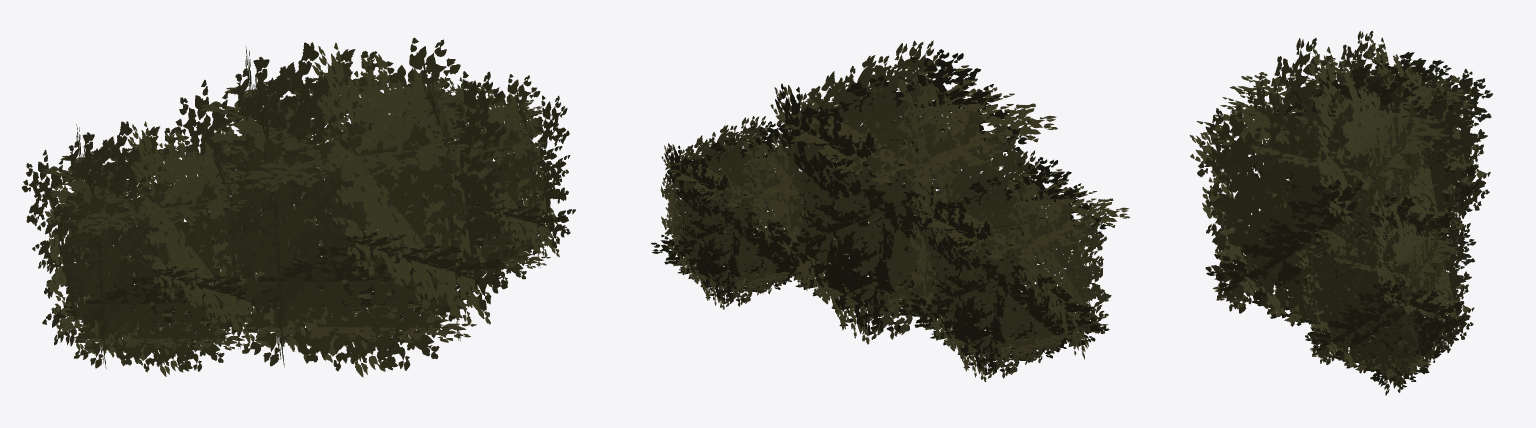
The model's file is Bush.fbx.
3 renders of one model, left to right at view 1: azimuth 30°, elevation 25°; view 2: azimuth 150°, elevation 25°; view 3: azimuth 270°, elevation 25°, orthographic. The views are drawn at different scales.
Parts seen in each view (by area): view 1: Bush_b; view 2: Bush_b; view 3: Bush_b.
Part boxes in pixels (x1=…): Bush_b: x1=21, y1=37, x2=575, y2=377; Bush_b: x1=651, y1=40, x2=1129, y2=381; Bush_b: x1=1190, y1=30, x2=1492, y2=395.
Bounding box in the file's own units: 5.29 × 3.69 × 3.34.
